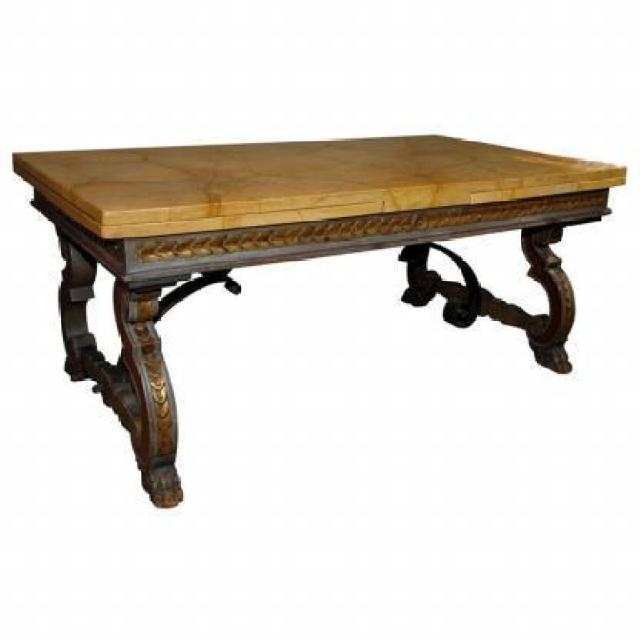tables: (11, 130, 626, 508)
